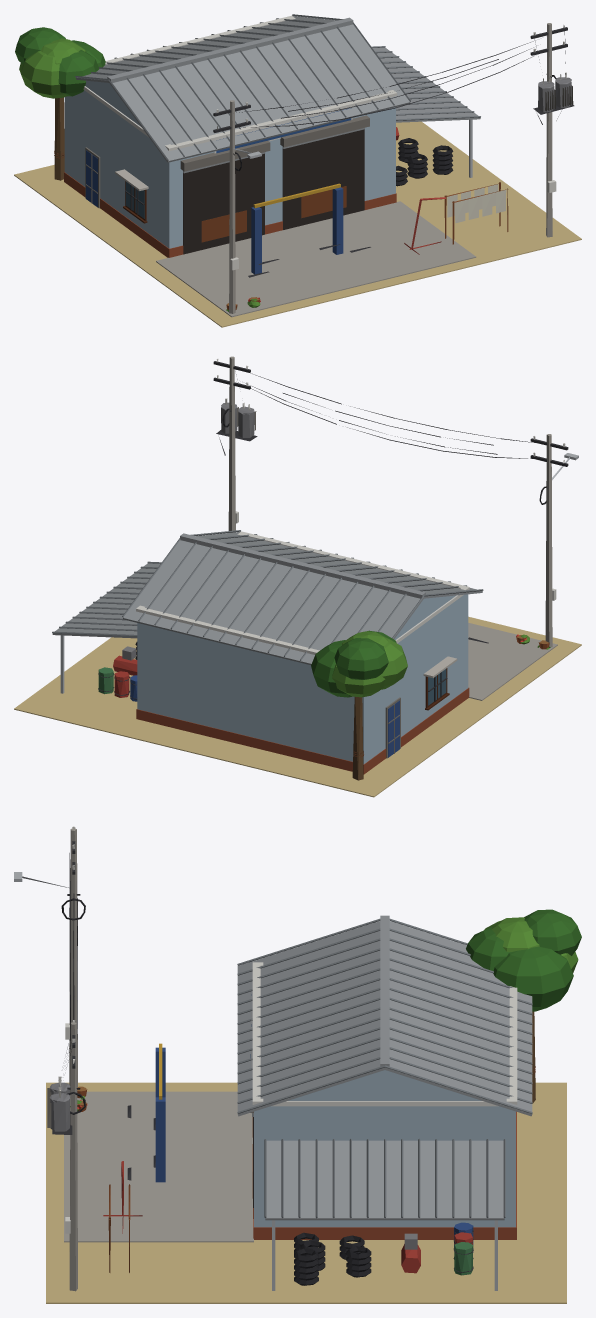
Rendered from factory_1.glb.
3 views of the same model, one above another, from view 1: azimuth 30°, elevation 25°; view 2: azimuth 150°, elevation 25°; view 3: azimuth 270°, elevation 25° (orthographic). The views are drawn at different scales.
Parts seen in each view (by area): view 1: body, windows; view 2: body; view 3: body.
Boxes of the visible parts, bbox=[...] form: body: bbox=[14, 14, 581, 327]; windows: bbox=[126, 129, 364, 254]; body: bbox=[14, 356, 581, 797]; body: bbox=[14, 826, 581, 1303].
Size of the model in its own units: 16.26 by 9.29 by 17.34.
